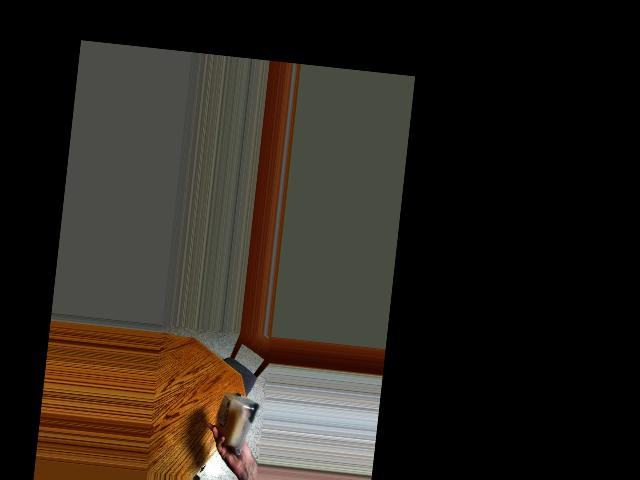cheese: (210, 388, 259, 450)
